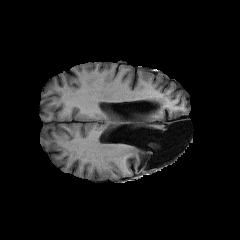glioma: (121, 136, 185, 173)
